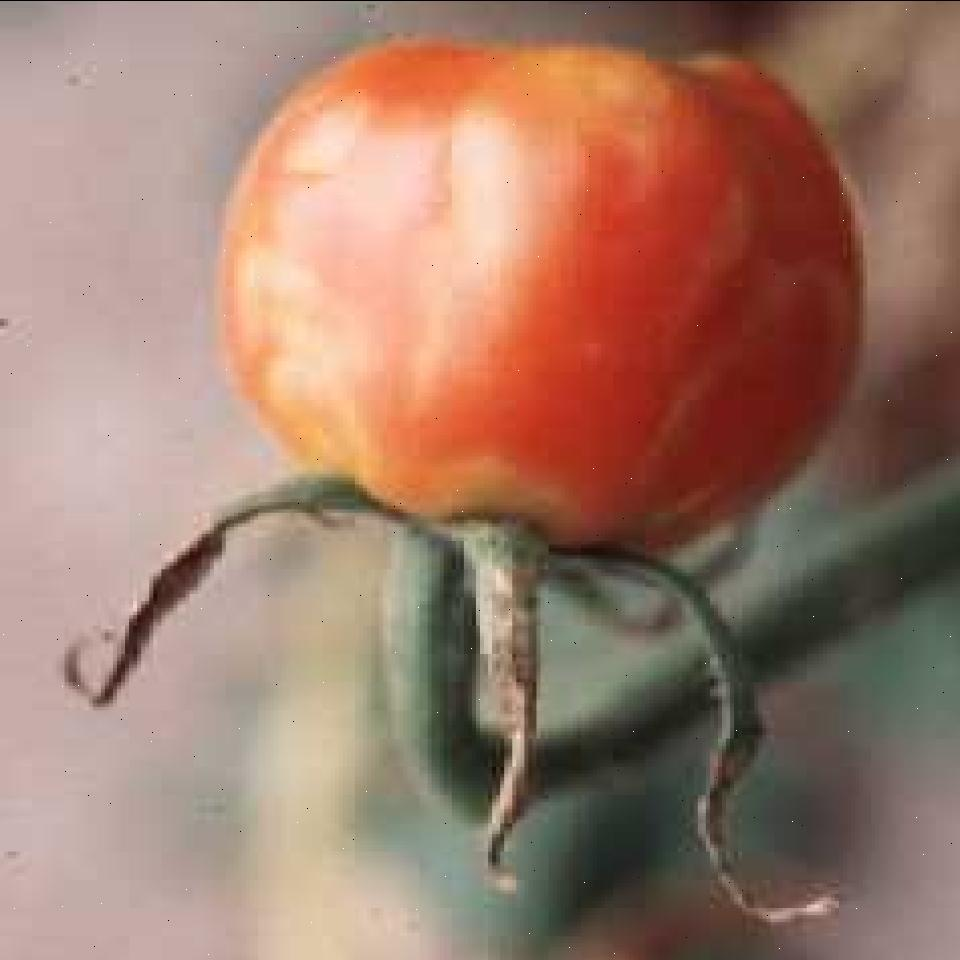Spotted wilt Virus: (218, 35, 867, 558)
